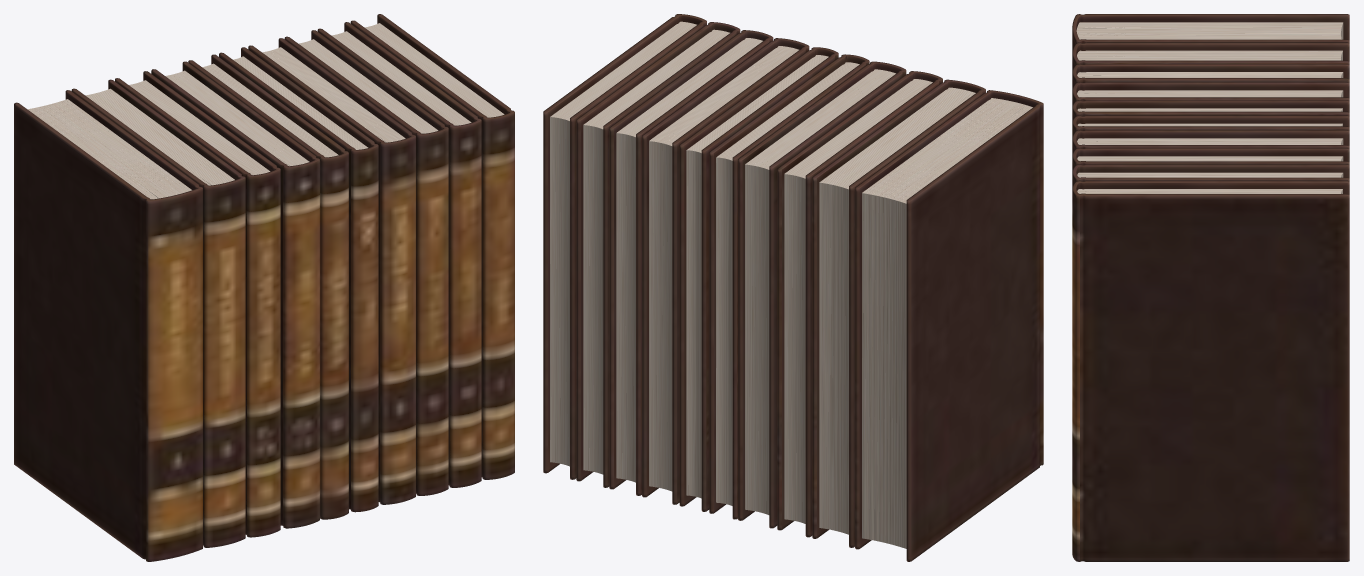
The model's file is books.glb.
3 renders of one model, left to right at view 1: azimuth 30°, elevation 25°; view 2: azimuth 150°, elevation 25°; view 3: azimuth 270°, elevation 25°, orthographic.
Parts seen in each view (by area): view 1: book_encyclopedia_set_01_book01, book_encyclopedia_set_01_book02, book_encyclopedia_set_01_book04, book_encyclopedia_set_01_book07, book_encyclopedia_set_01_book03, book_encyclopedia_set_01_book10, book_encyclopedia_set_01_book09, book_encyclopedia_set_01_book08, book_encyclopedia_set_01_book06, book_encyclopedia_set_01_book05; view 2: book_encyclopedia_set_01_book01, book_encyclopedia_set_01_book02, book_encyclopedia_set_01_book04, book_encyclopedia_set_01_book07, book_encyclopedia_set_01_book03, book_encyclopedia_set_01_book10, book_encyclopedia_set_01_book09, book_encyclopedia_set_01_book08, book_encyclopedia_set_01_book06, book_encyclopedia_set_01_book05; view 3: book_encyclopedia_set_01_book10, book_encyclopedia_set_01_book01, book_encyclopedia_set_01_book02, book_encyclopedia_set_01_book04, book_encyclopedia_set_01_book03, book_encyclopedia_set_01_book07, book_encyclopedia_set_01_book09, book_encyclopedia_set_01_book08, book_encyclopedia_set_01_book05, book_encyclopedia_set_01_book06.
Boxes of the visible parts, box(x1,y1,x2,y2) form: book_encyclopedia_set_01_book01: box(14, 90, 202, 561); book_encyclopedia_set_01_book02: box(71, 79, 245, 547); book_encyclopedia_set_01_book04: box(151, 61, 319, 528); book_encyclopedia_set_01_book07: box(248, 38, 415, 504); book_encyclopedia_set_01_book03: box(115, 71, 280, 537); book_encyclopedia_set_01_book10: box(350, 14, 514, 479); book_encyclopedia_set_01_book09: box(317, 22, 481, 487); book_encyclopedia_set_01_book08: box(284, 30, 448, 495); book_encyclopedia_set_01_book06: box(219, 47, 378, 512); book_encyclopedia_set_01_book05: box(188, 54, 348, 519); book_encyclopedia_set_01_book01: box(855, 90, 1043, 561); book_encyclopedia_set_01_book02: box(812, 79, 985, 547); book_encyclopedia_set_01_book04: box(738, 61, 906, 528); book_encyclopedia_set_01_book07: box(642, 38, 809, 504); book_encyclopedia_set_01_book03: box(777, 71, 942, 537); book_encyclopedia_set_01_book10: box(543, 14, 706, 479); book_encyclopedia_set_01_book09: box(576, 22, 740, 487); book_encyclopedia_set_01_book08: box(609, 30, 773, 495); book_encyclopedia_set_01_book06: box(679, 47, 838, 511); book_encyclopedia_set_01_book05: box(709, 54, 869, 519); book_encyclopedia_set_01_book10: box(1072, 180, 1349, 561); book_encyclopedia_set_01_book01: box(1072, 14, 1349, 50); book_encyclopedia_set_01_book02: box(1072, 42, 1349, 70); book_encyclopedia_set_01_book04: box(1072, 82, 1349, 105); book_encyclopedia_set_01_book03: box(1072, 64, 1349, 89); book_encyclopedia_set_01_book07: box(1072, 130, 1349, 154); book_encyclopedia_set_01_book09: box(1072, 164, 1349, 186); book_encyclopedia_set_01_book08: box(1072, 148, 1349, 170); book_encyclopedia_set_01_book05: box(1072, 100, 1349, 120); book_encyclopedia_set_01_book06: box(1072, 115, 1349, 136).
Bounding box in the file's own units: 0.2536 × 0.2374 × 0.1631.
2 materials, 2 textured.
